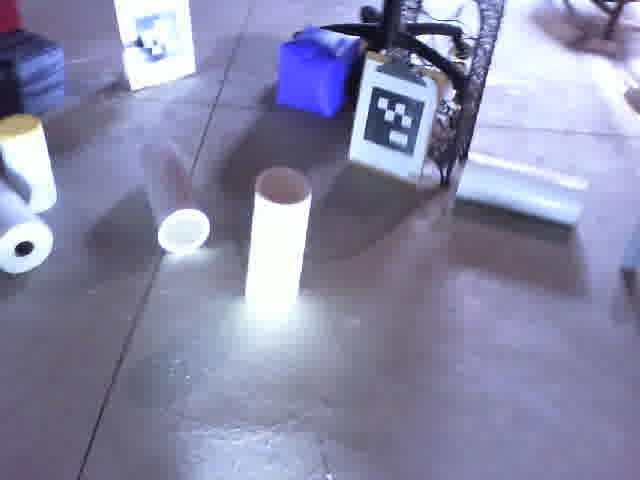coral: (235, 161, 322, 317), (440, 149, 594, 231), (132, 134, 212, 261), (0, 115, 61, 211)
